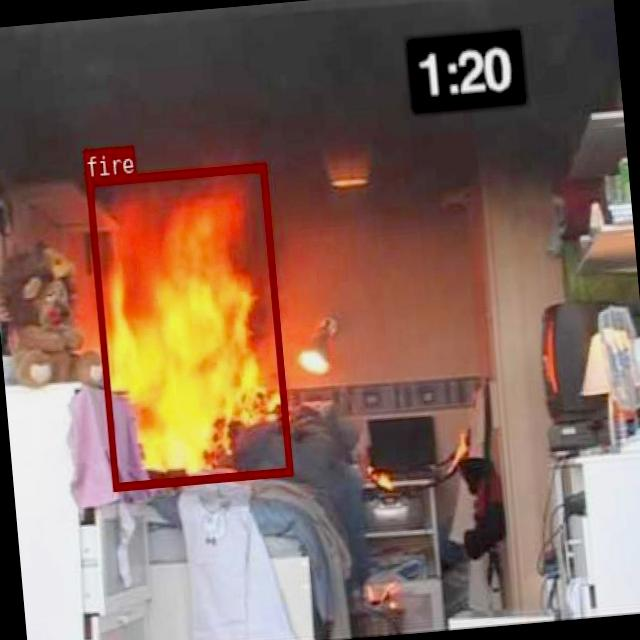fire: (85, 162, 292, 489)
